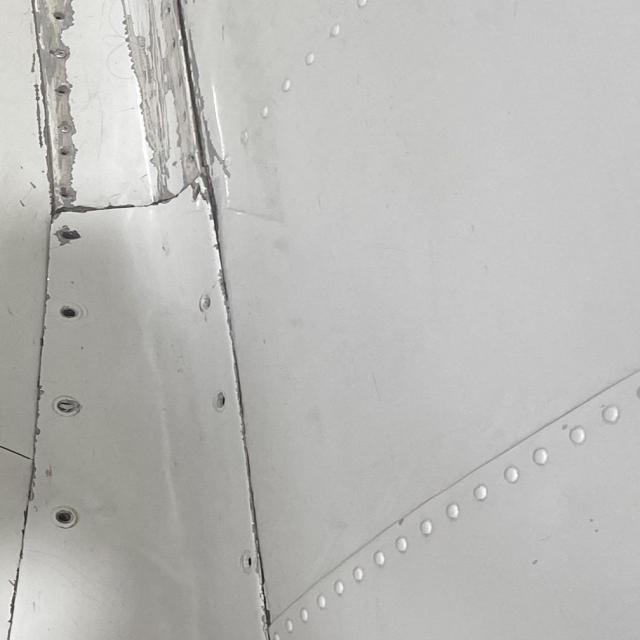Fastener Damage: (51, 507, 81, 527), (57, 303, 82, 322), (213, 388, 230, 414), (52, 10, 68, 22)
Rupture: (122, 0, 266, 216)
